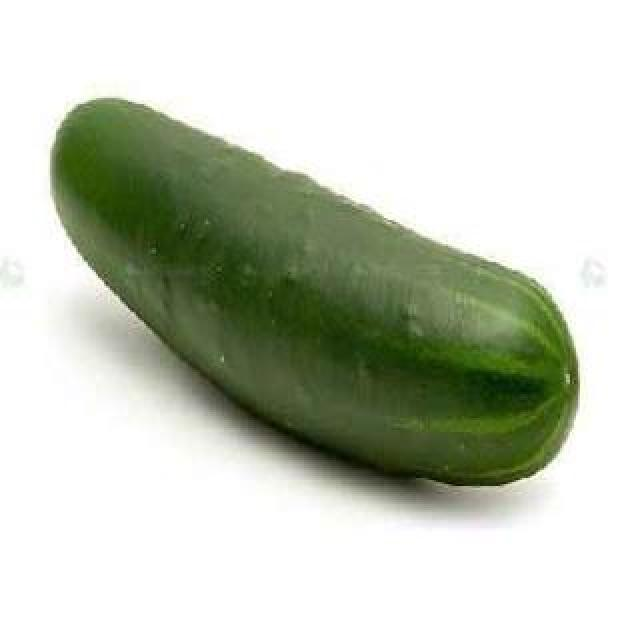cucumber: (55, 93, 583, 499)
